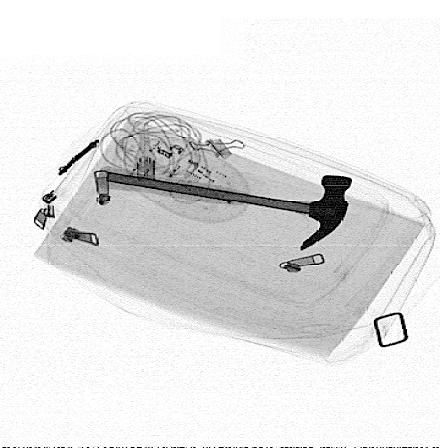Hammer: (93, 165, 353, 251)
